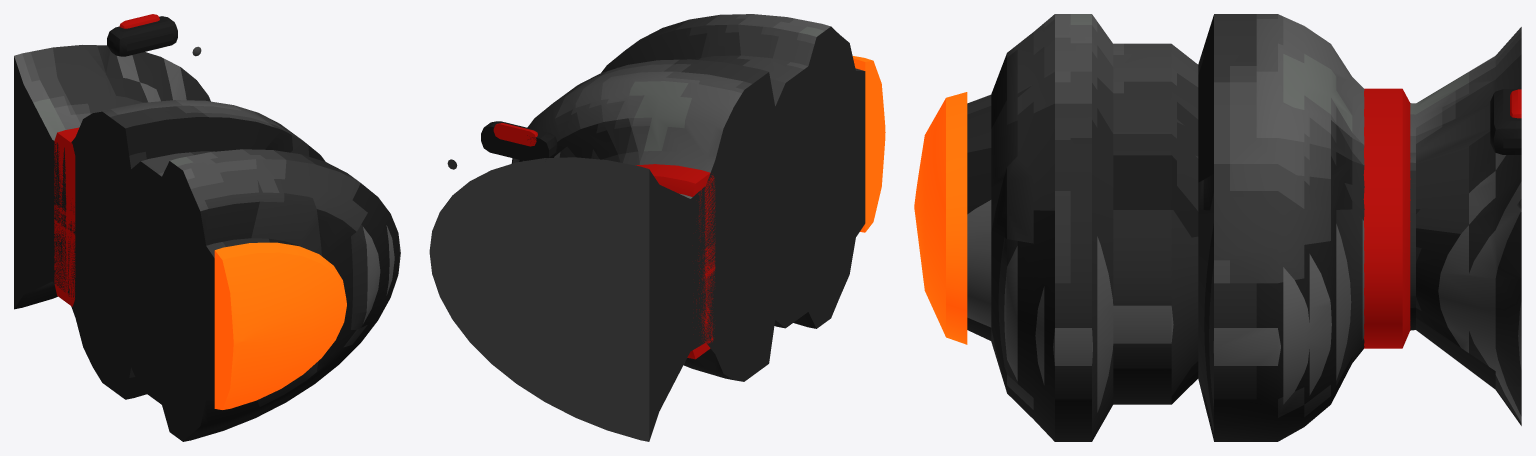
File: grey_capsule_br.glb
3 views of the same model, side by side, from view 1: azimuth 30°, elevation 25°; view 2: azimuth 150°, elevation 25°; view 3: azimuth 270°, elevation 25° (orthographic). The views are drawn at different scales.
Visible parts, largest first — view 1: grey_capsule_br_hull, grey_capsule_br_exhaust, grey_capsule_br_flange_lights, grey_capsule_br_slot_frame1; view 2: grey_capsule_br_hull, grey_capsule_br_flange_lights, grey_capsule_br_exhaust, grey_capsule_br_slot_frame1, grey_capsule_br_slot1; view 3: grey_capsule_br_hull, grey_capsule_br_flange_lights, grey_capsule_br_exhaust, grey_capsule_br_slot_frame1.
Part boxes in pixels (x1,y1,x2,y2): grey_capsule_br_hull: (14,45,400,441); grey_capsule_br_exhaust: (214,242,346,409); grey_capsule_br_flange_lights: (54,127,79,306); grey_capsule_br_slot_frame1: (107,16,177,56); grey_capsule_br_hull: (429,14,865,441); grey_capsule_br_flange_lights: (635,164,715,359); grey_capsule_br_exhaust: (852,56,885,232); grey_capsule_br_slot_frame1: (481,121,557,160); grey_capsule_br_slot1: (493,123,537,146); grey_capsule_br_hull: (967,14,1521,441); grey_capsule_br_flange_lights: (1363,88,1410,348); grey_capsule_br_exhaust: (914,92,967,344); grey_capsule_br_slot_frame1: (1490,89,1521,154).
Size of the model in its own units: 13.09 by 15.62 by 22.89.
